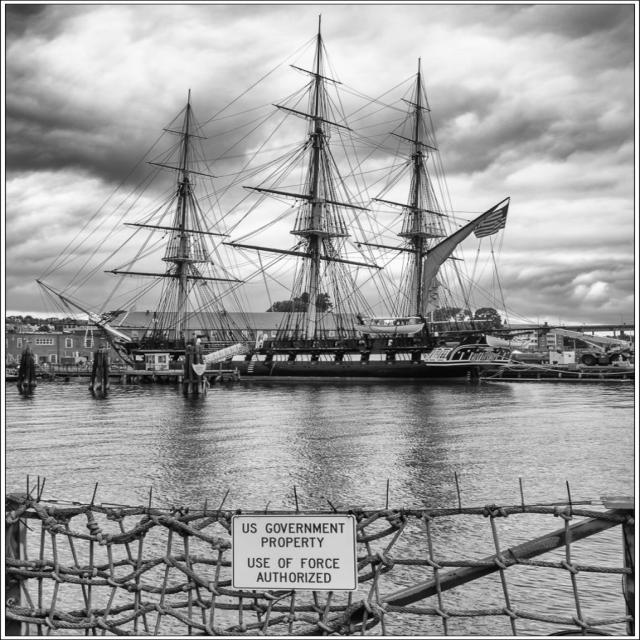Boat: (63, 34, 549, 404)
